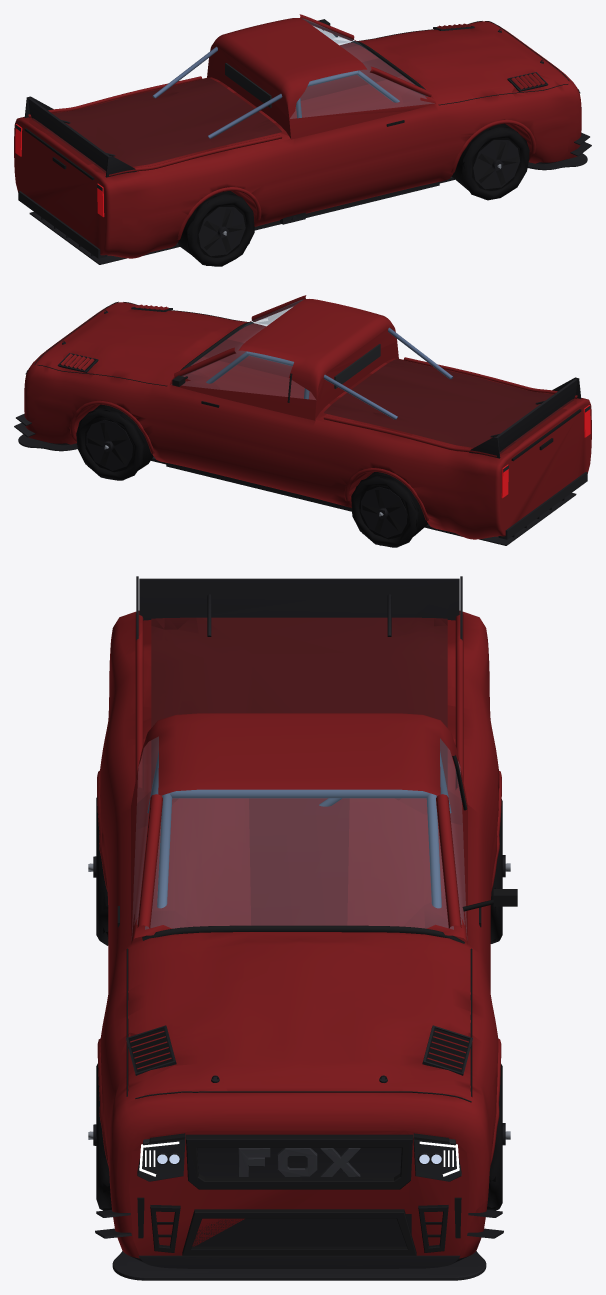
Rendered from truck_race_lod1.glb.
3 renders of one model, top to bottom at view 1: azimuth 30°, elevation 25°; view 2: azimuth 150°, elevation 25°; view 3: azimuth 270°, elevation 25°, orthographic. The views are drawn at different scales.
Visible parts, largest first — view 1: Body, Tire_FR, Tire_RR; view 2: Body, Tire_FL, Tire_RL; view 3: Body, Tire_FL, Tire_FR, Tire_RR, Tire_RL.
Part boxes in pixels (box(x1,y1,x2,y2)): Body: box(14, 14, 591, 264); Tire_FR: box(451, 123, 529, 200); Tire_RR: box(178, 191, 254, 266); Body: box(14, 295, 591, 545); Tire_FL: box(76, 404, 153, 480); Tire_RL: box(351, 472, 427, 547); Body: box(95, 576, 517, 1280); Tire_FL: box(487, 1064, 510, 1210); Tire_FR: box(88, 1063, 111, 1210); Tire_RR: box(88, 797, 108, 945); Tire_RL: box(490, 799, 510, 943).
Size of the model in its own units: 5.64 by 1.7 by 2.14.
